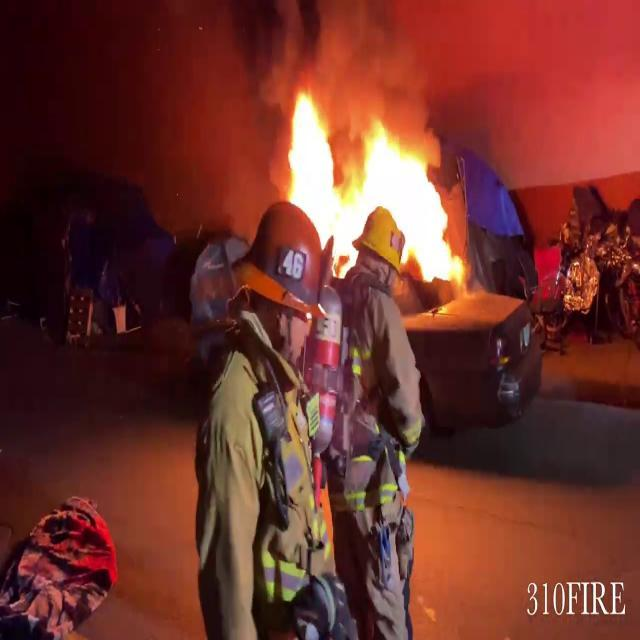Fire: (278, 84, 470, 298)
Smoke: (0, 0, 294, 228)
